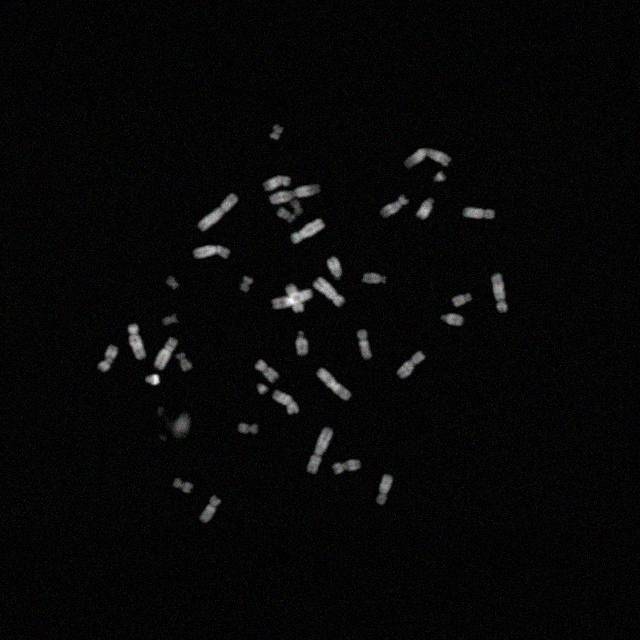chromosome: (198, 193, 238, 231), (306, 427, 334, 475), (316, 368, 352, 400), (270, 183, 320, 204), (404, 148, 452, 168), (272, 288, 314, 310), (314, 278, 346, 306), (397, 349, 425, 378), (292, 220, 324, 244), (154, 338, 178, 370), (379, 194, 408, 218), (271, 390, 299, 414), (128, 323, 146, 359), (492, 273, 508, 313), (199, 495, 221, 523), (193, 244, 230, 260), (376, 473, 394, 505), (286, 283, 304, 313), (255, 360, 279, 382), (97, 346, 117, 372), (416, 197, 434, 221), (173, 413, 191, 437), (358, 329, 372, 359), (332, 460, 362, 474), (264, 175, 290, 191), (463, 207, 495, 219), (326, 256, 342, 280), (276, 207, 296, 223), (173, 477, 193, 493), (175, 353, 192, 371), (362, 273, 386, 285), (296, 331, 308, 355), (451, 292, 471, 306), (442, 314, 464, 326), (238, 424, 258, 434), (291, 200, 305, 214), (165, 275, 179, 289), (270, 124, 282, 140), (240, 276, 252, 292), (162, 314, 178, 326), (146, 374, 160, 386), (256, 383, 268, 395), (433, 172, 447, 182)
